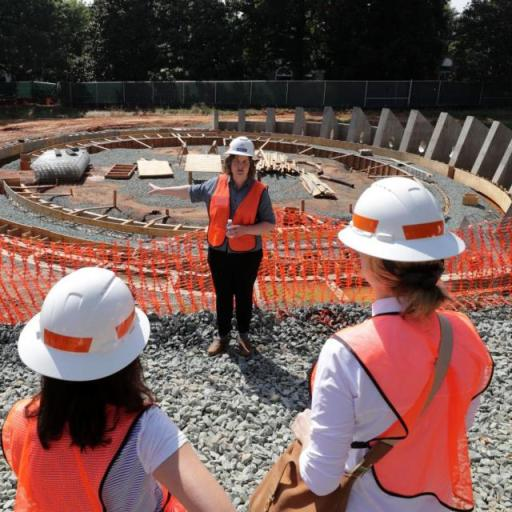helmet: (16, 265, 150, 380), (339, 174, 466, 264), (224, 134, 257, 158)
vest: (330, 304, 492, 503), (0, 395, 170, 512), (204, 176, 268, 250)
